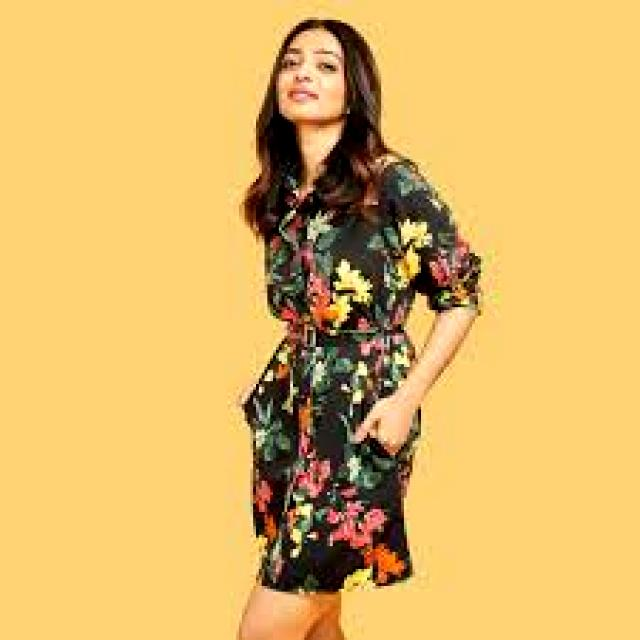dress: (242, 160, 483, 591)
